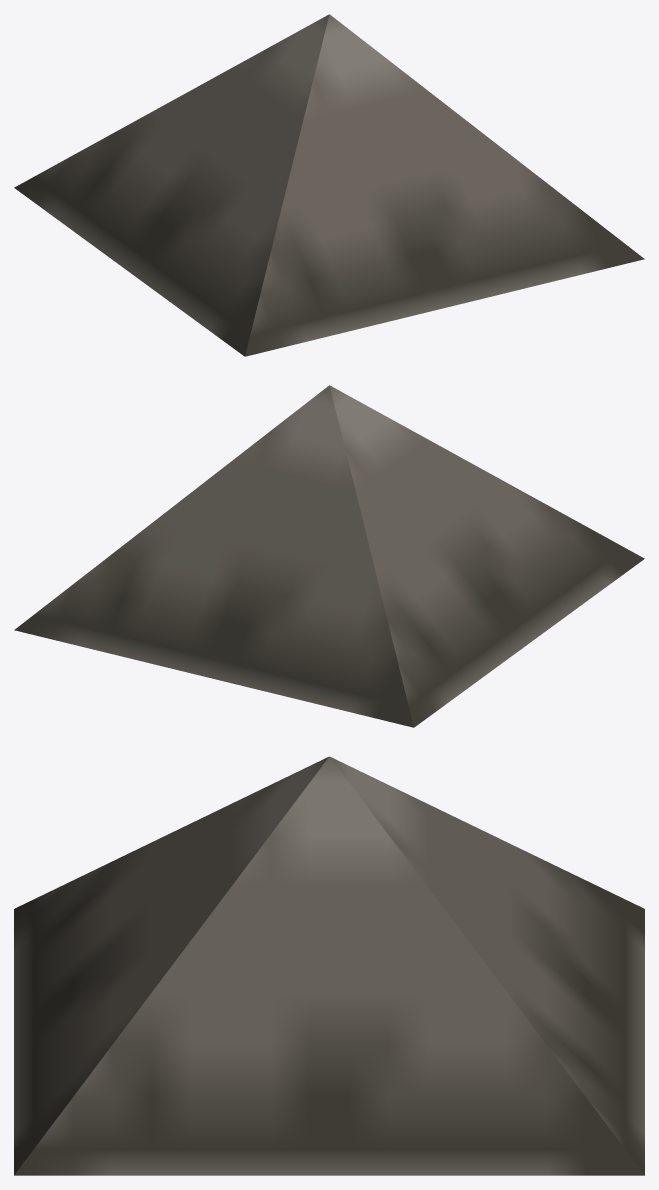
The model's file is Railing_Corner_Point.fbx.
3 views of the same model, one above another, from view 1: azimuth 30°, elevation 25°; view 2: azimuth 150°, elevation 25°; view 3: azimuth 270°, elevation 25° (orthographic). The views are drawn at different scales.
Parts seen in each view (by area): view 1: Railing_Corner_Point; view 2: Railing_Corner_Point; view 3: Railing_Corner_Point.
Boxes of the visible parts, <box> form: Railing_Corner_Point: <box>14,14,644,356</box>; Railing_Corner_Point: <box>14,385,644,727</box>; Railing_Corner_Point: <box>14,756,644,1175</box>.
Size of the model in its own units: 100 by 50 by 100.
1 material, 1 textured.
